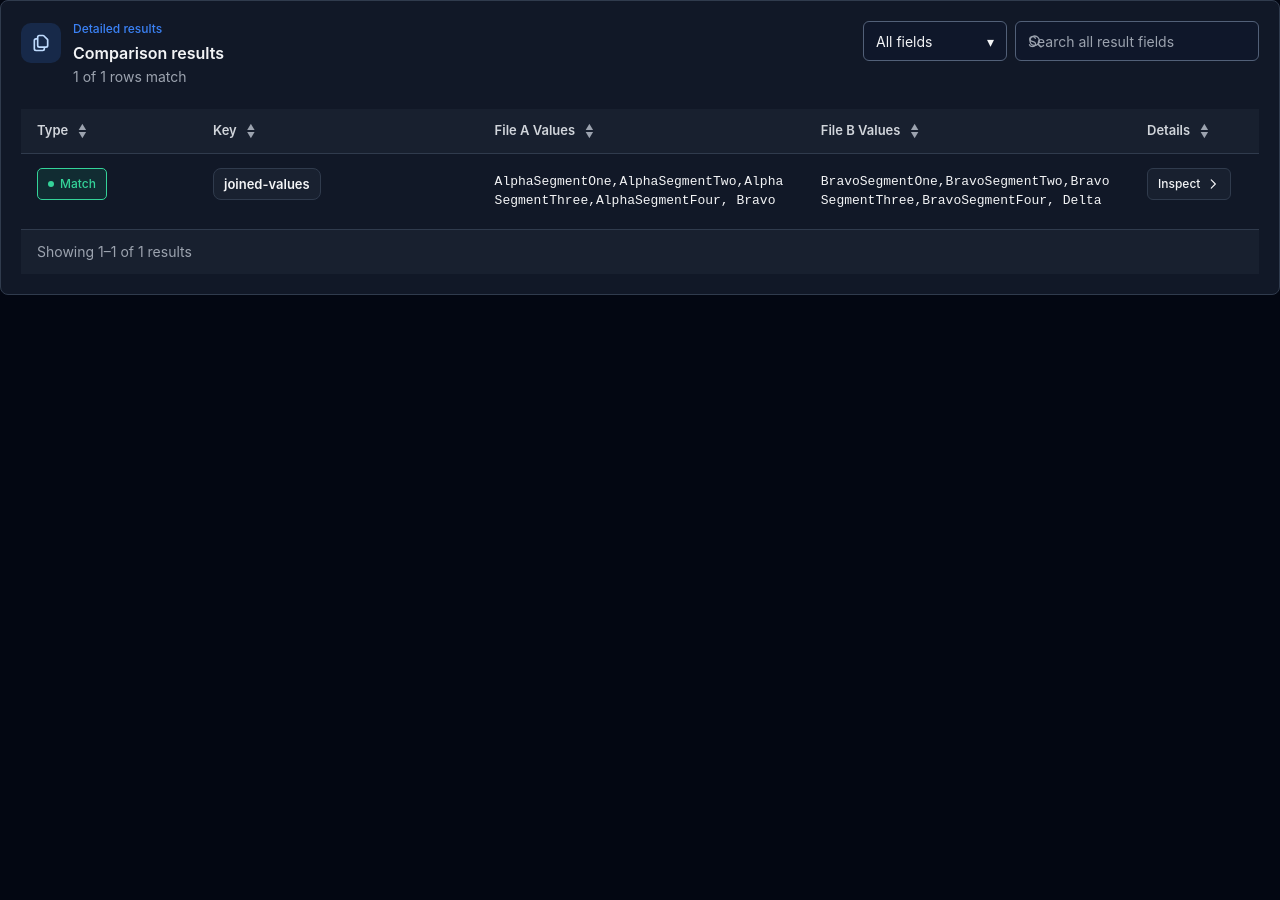
Test: wraps long collapsed result values instead of truncating them
Click the button "Inspect" at (1189, 184), box [1147,168,1231,200]
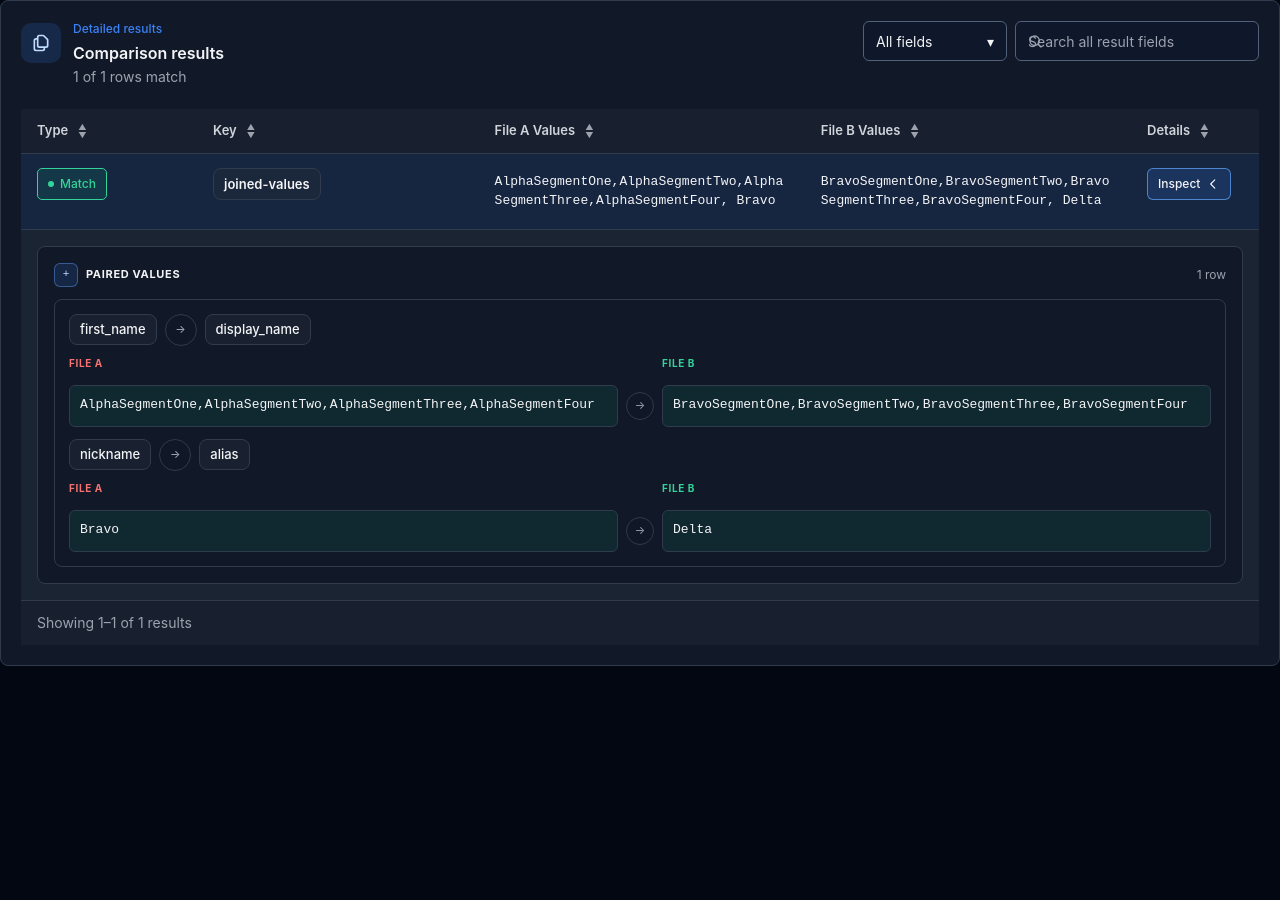
Now the text "Paired Values" is shown, box [86,267,180,282]
Now the text "Bravo" is shown, box [69,510,618,552]
